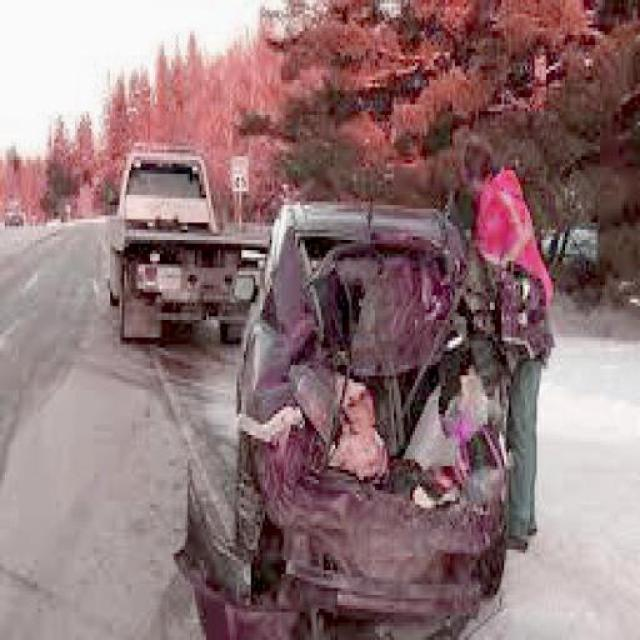car damage: (177, 232, 512, 634)
